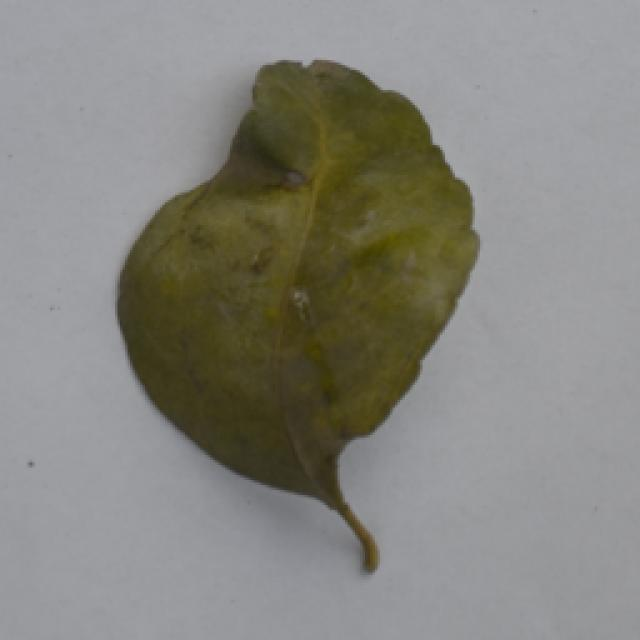blackspot: (104, 53, 516, 602)
